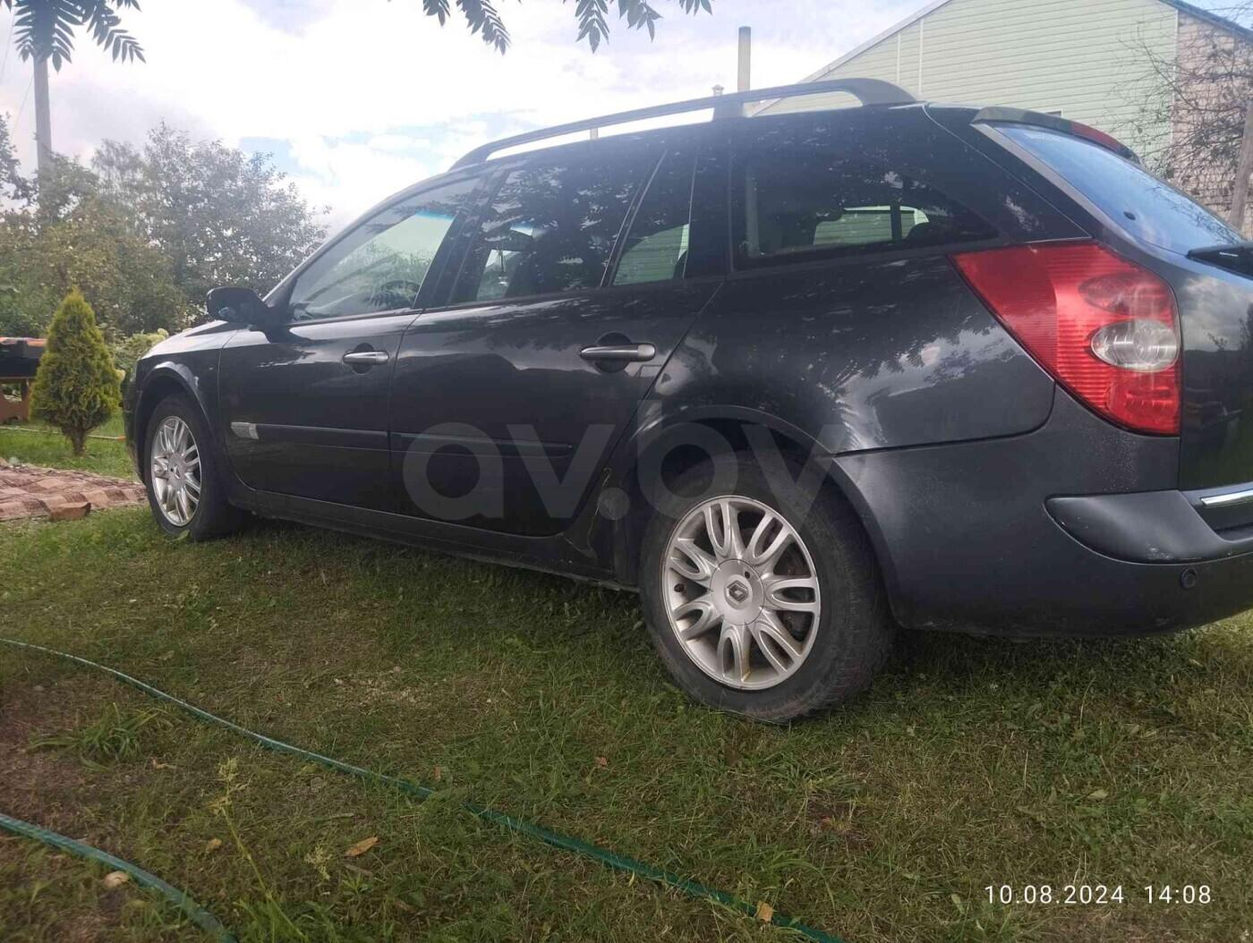Laguna_2005-2007: (118, 106, 1253, 737)
